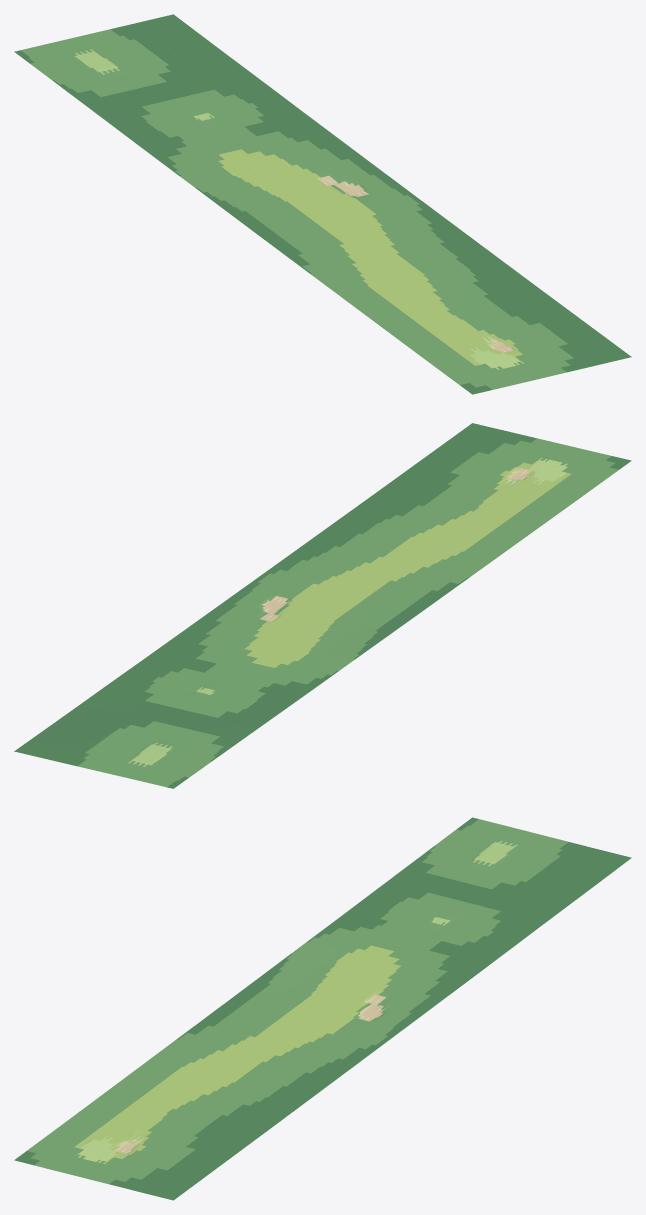
The picture shows the model from 3 angles, top to bottom: view 1: azimuth 30°, elevation 25°; view 2: azimuth 150°, elevation 25°; view 3: azimuth 330°, elevation 25°; orthographic projection.
Visible parts, largest first — view 1: terrain; view 2: terrain; view 3: terrain.
Part boxes in pixels (box(x1,y1,x2,y2)): terrain: box(14, 14, 631, 394); terrain: box(14, 423, 631, 788); terrain: box(14, 817, 631, 1200).
Bounding box in the file's own units: 82.5 × 4.27 × 411.
